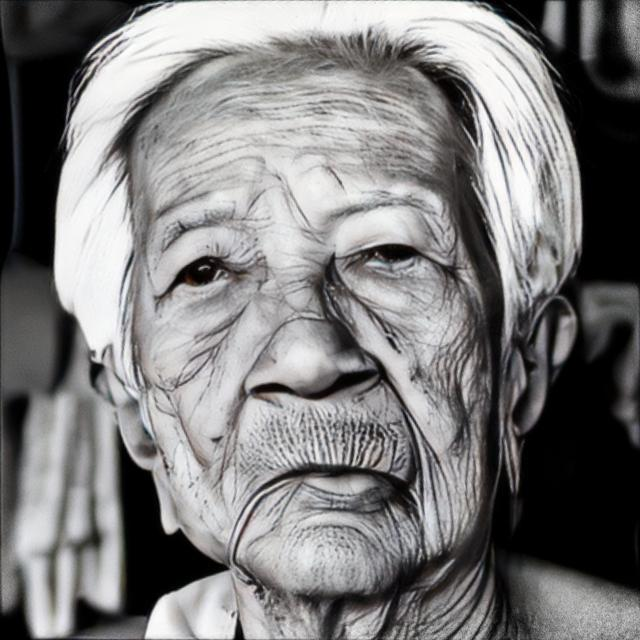sad: (131, 70, 497, 601)
